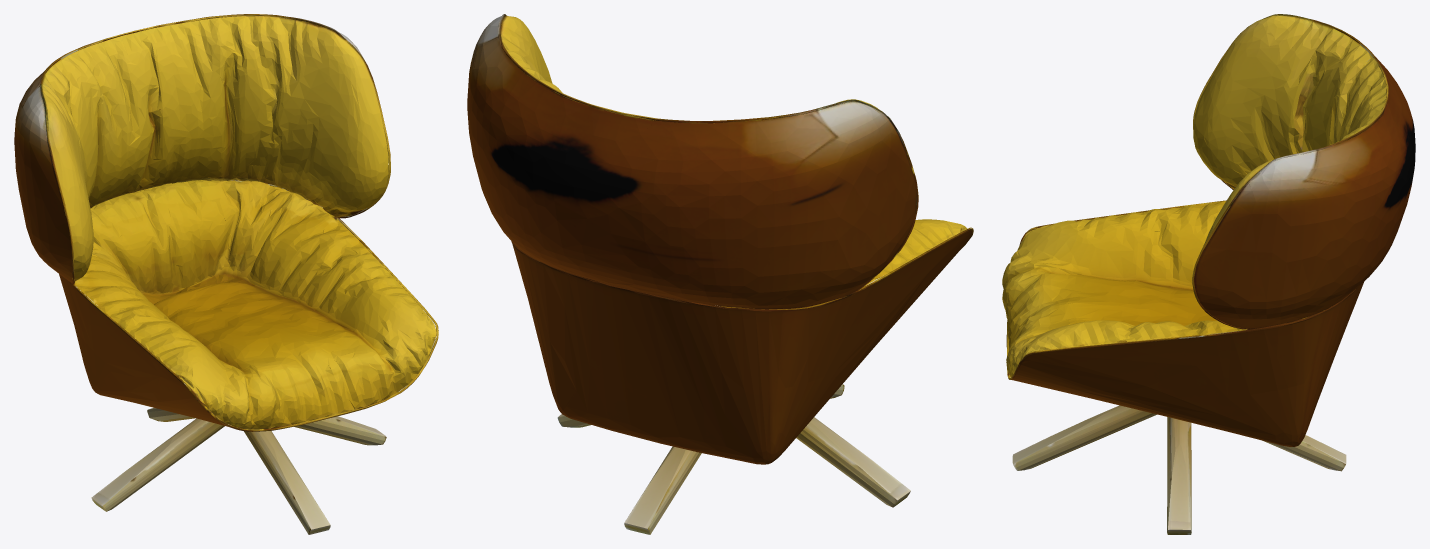
The model's file is edited_mesh.glb.
The picture shows the model from 3 angles, left to right: view 1: azimuth 30°, elevation 25°; view 2: azimuth 150°, elevation 25°; view 3: azimuth 270°, elevation 25°; orthographic projection. The views are drawn at different scales.
Parts seen in each view (by area): view 1: solid_001_wire; view 2: solid_001_wire; view 3: solid_001_wire.
Part boxes in pixels (x1,y1,x2,y2): solid_001_wire: (14, 14, 438, 534); solid_001_wire: (467, 14, 973, 534); solid_001_wire: (1002, 14, 1415, 534).
Size of the model in its own units: 1.24 by 1.34 by 1.31.
1 material, 1 textured.
